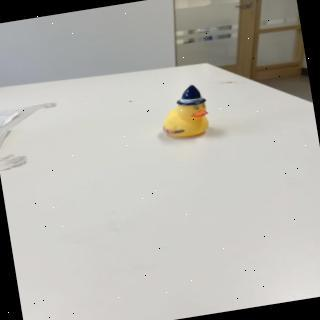duck_specialty: (156, 82, 216, 144)
